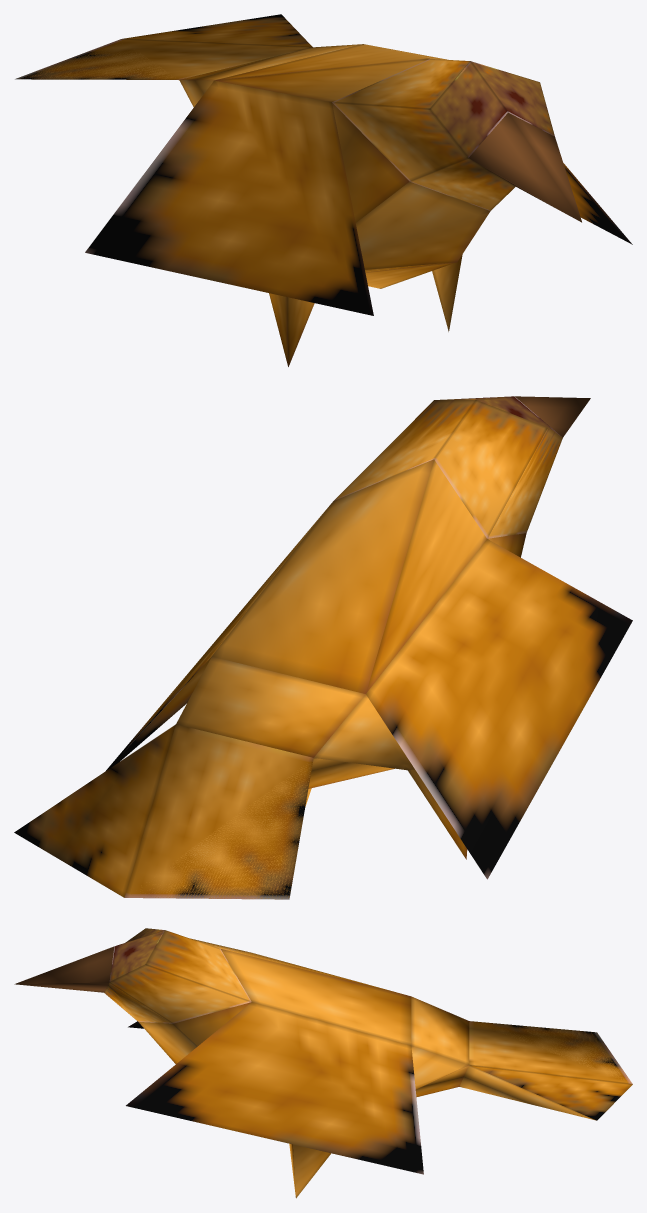
The model's file is bird.glb.
3 renders of one model, top to bottom at view 1: azimuth 30°, elevation 25°; view 2: azimuth 150°, elevation 25°; view 3: azimuth 270°, elevation 25°, orthographic. The views are drawn at different scales.
Parts seen in each view (by area): view 1: T1L1M003_7; view 2: T1L1M003_7; view 3: T1L1M003_7.
Boxes of the visible parts, left/top/right/bottom form: T1L1M003_7: left=15, top=14, right=632, bottom=366; T1L1M003_7: left=14, top=396, right=632, bottom=899; T1L1M003_7: left=14, top=928, right=632, bottom=1198.
Size of the model in its own units: 0.0934 by 0.0855 by 0.1966.
Materials: 2 (2 with a texture image).
